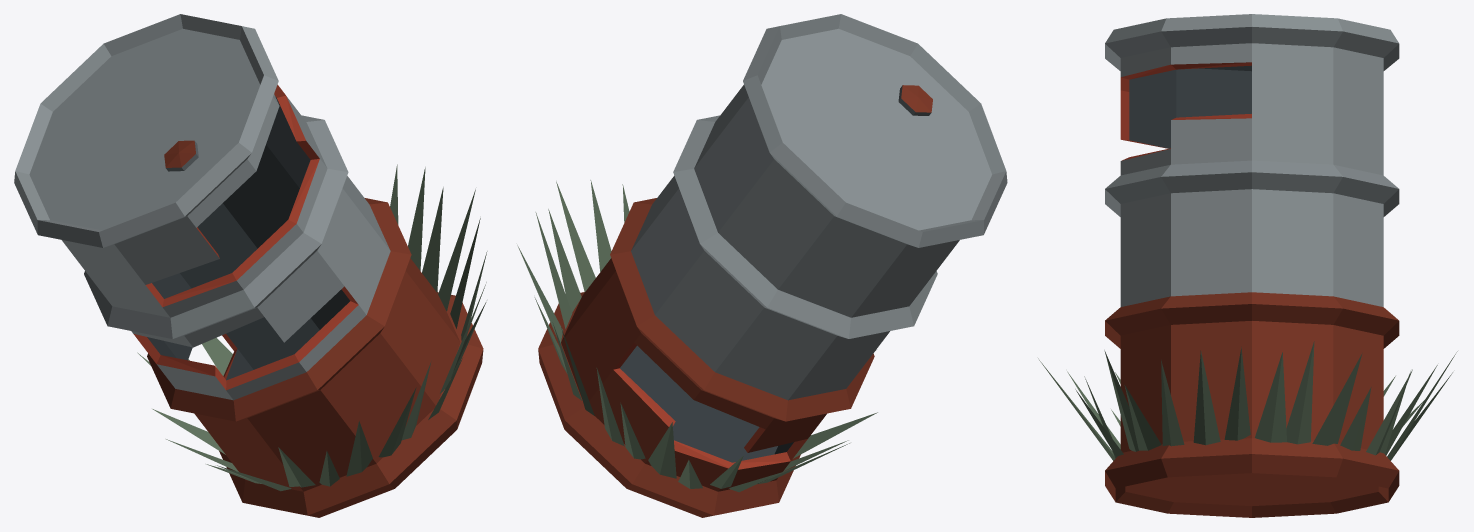
Rendered from corroded-drum-fc75cf.glb.
3 views of the same model, side by side, from view 1: azimuth 30°, elevation 25°; view 2: azimuth 150°, elevation 25°; view 3: azimuth 270°, elevation 25° (orthographic). The views are drawn at different scales.
Visible parts, largest first — view 1: drum, weed; view 2: drum, weed; view 3: drum, weed.
Boxes of the visible parts, bbox=[...] form: drum: bbox=[14, 14, 483, 517]; weed: bbox=[137, 164, 487, 491]; drum: bbox=[538, 14, 1007, 517]; weed: bbox=[517, 180, 877, 492]; drum: bbox=[1105, 14, 1399, 517]; weed: bbox=[1038, 341, 1457, 460].
Size of the model in its own units: 0.9928 by 1.06 by 0.8205.
